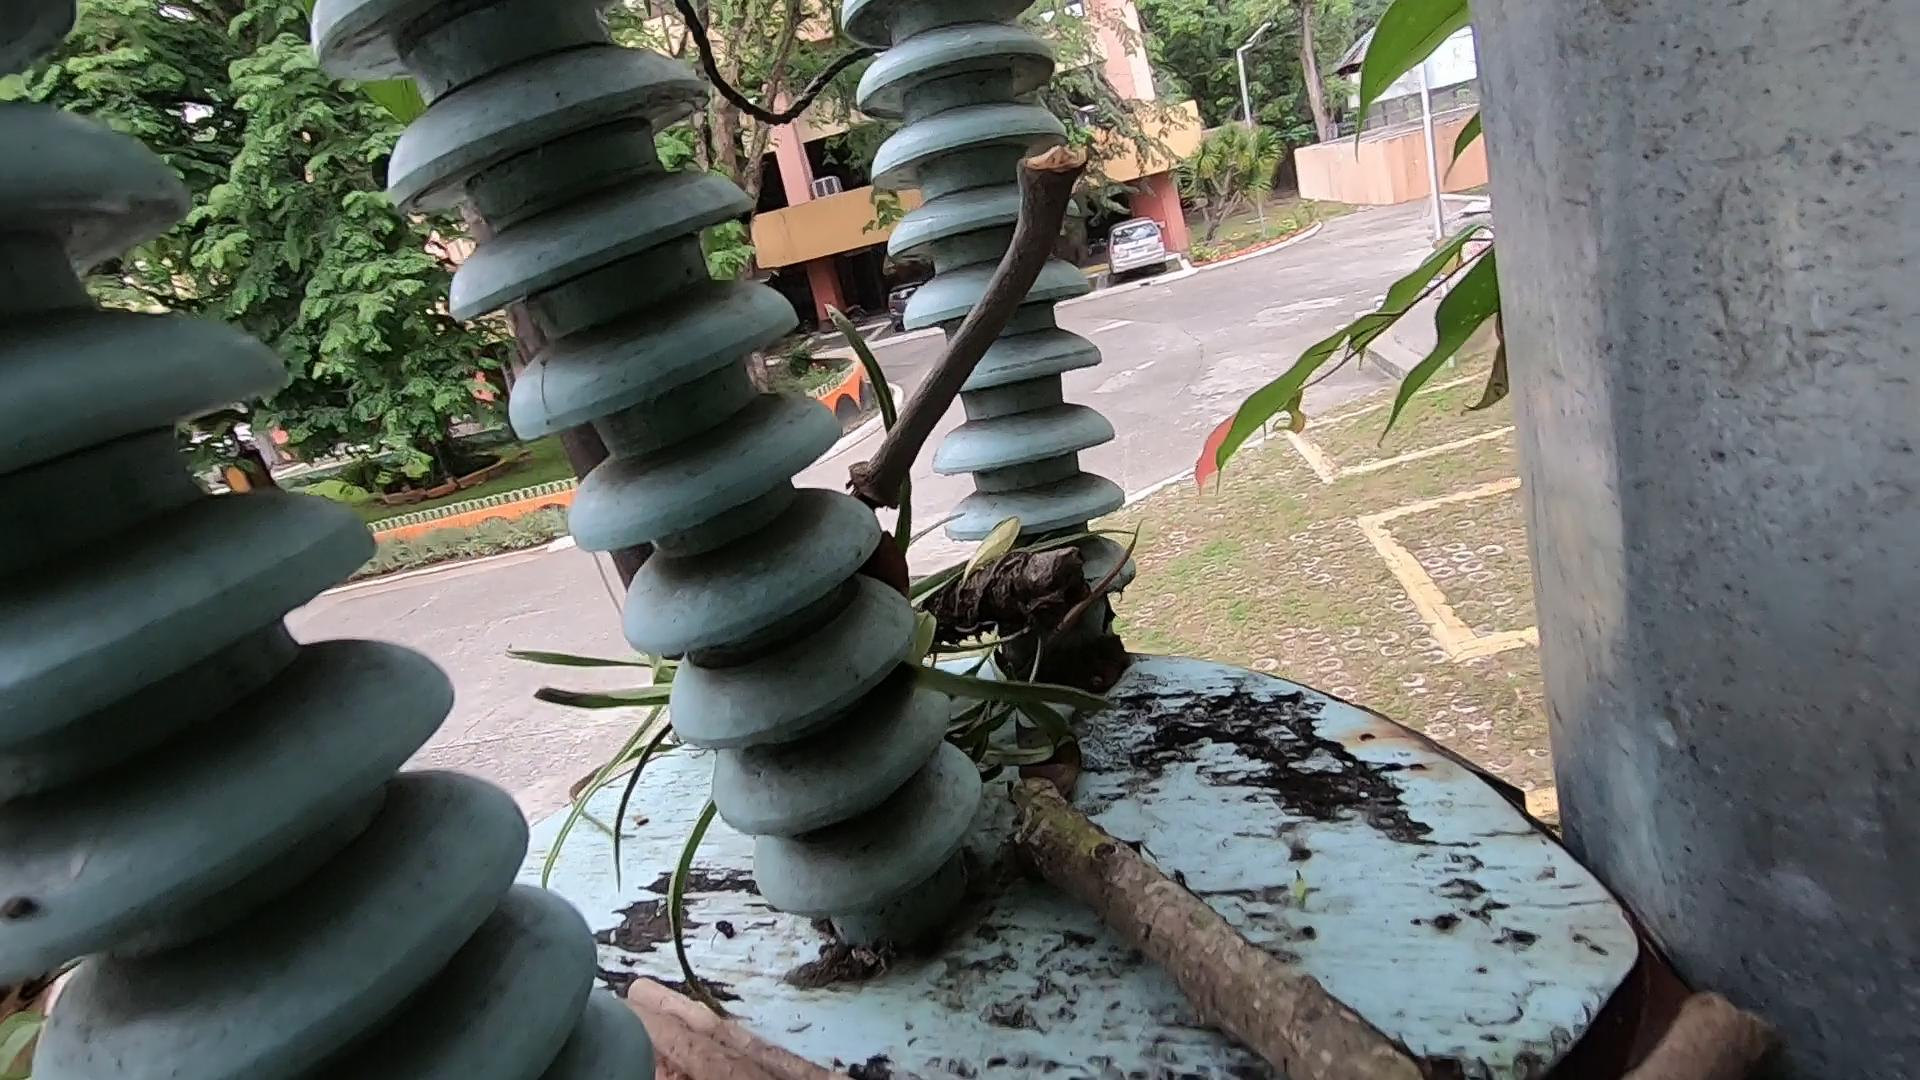branch with leaves: (895, 480, 1451, 1080)
tree branch: (887, 18, 1162, 498), (1611, 901, 1775, 1080)
